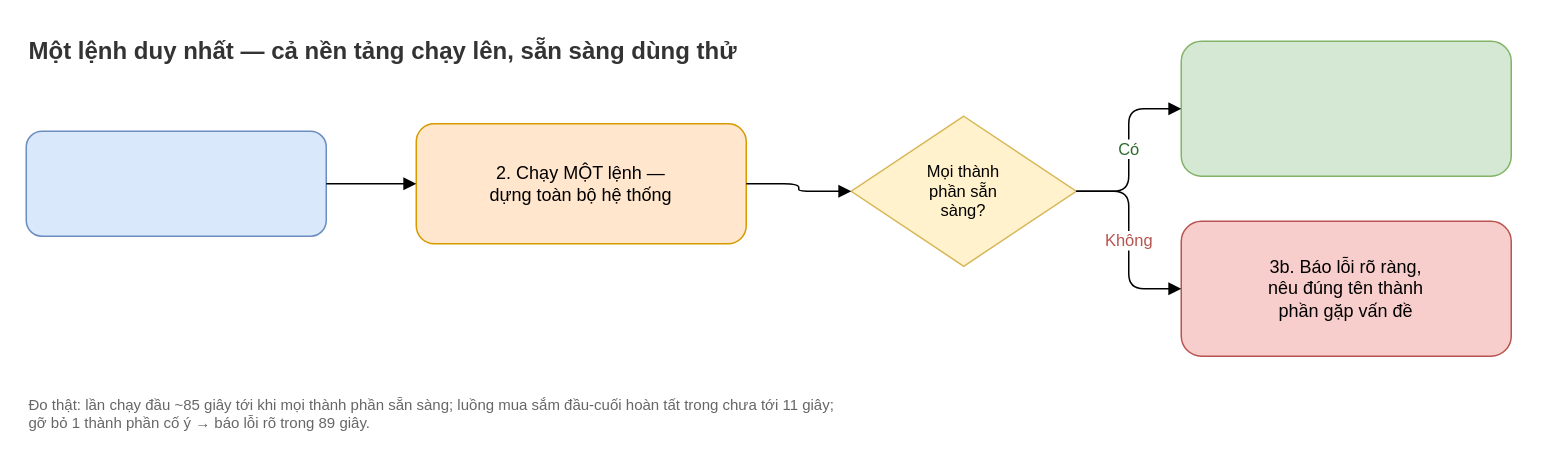
The diagram is 1553 pixels wide and 471 high, and some of its shapes have lost their labels. The box of each missing label's shape, as (x1, y1, x2, y2) in pixels:
1. Sao chép file cấu hình mẫu: (25, 130, 326, 236)
3a. Mở địa chỉ, dùng ngay — không cần bước nào thêm: (1180, 40, 1511, 176)
